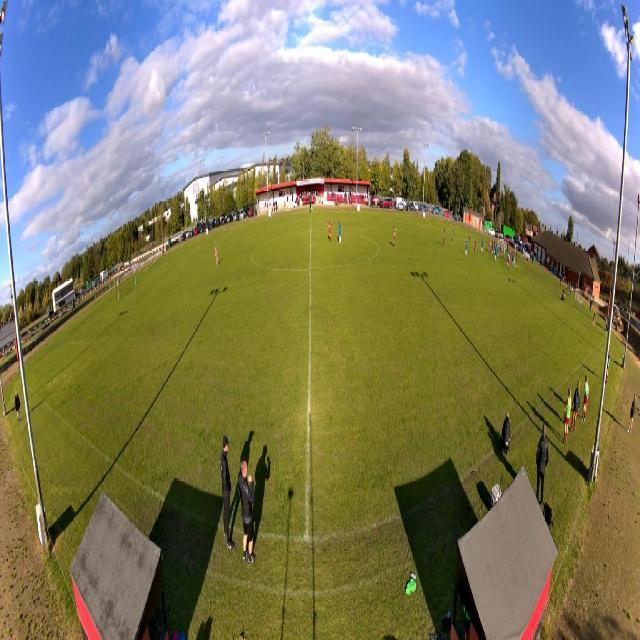ball: (504, 233, 505, 237)
player: (214, 244, 219, 268), (338, 219, 342, 245), (328, 219, 332, 243), (393, 225, 397, 249), (592, 312, 596, 332), (464, 239, 468, 258), (473, 240, 477, 258), (480, 236, 484, 253), (443, 228, 446, 249), (511, 250, 514, 269), (452, 225, 455, 243), (501, 242, 504, 260), (503, 242, 506, 260), (508, 253, 511, 271), (506, 251, 509, 268), (491, 239, 494, 255), (490, 237, 492, 256), (495, 244, 497, 263), (469, 228, 471, 245), (493, 239, 495, 255), (499, 242, 501, 258), (491, 239, 493, 254), (497, 244, 499, 258)
